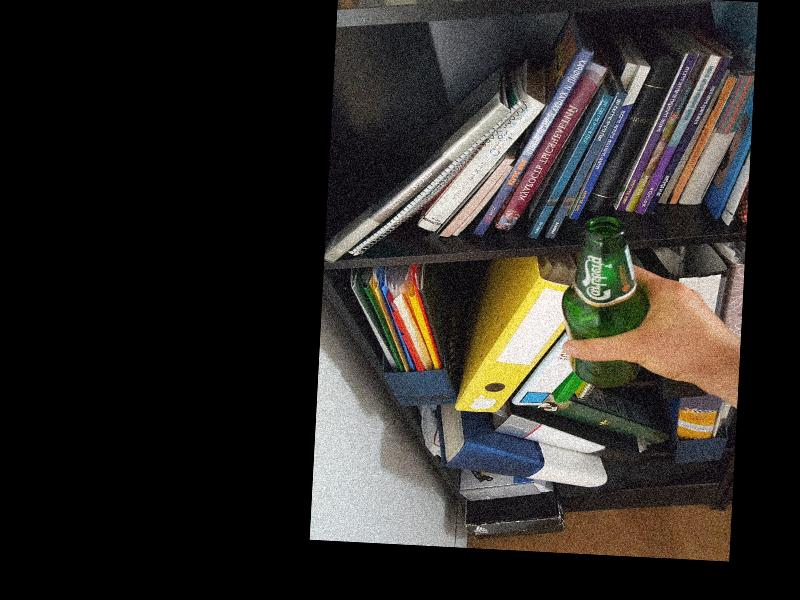Beer: (558, 214, 650, 390)
